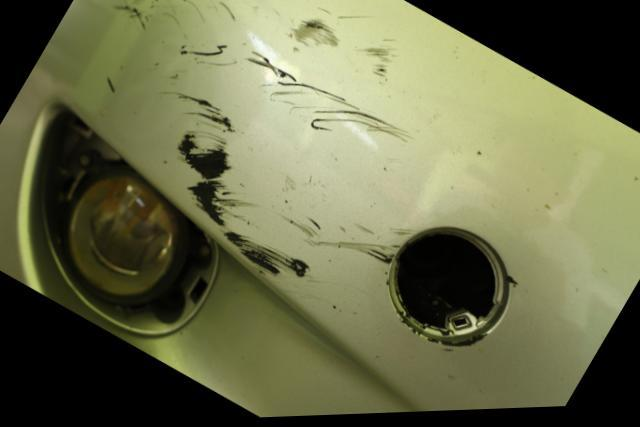scratch: (110, 0, 429, 296)
